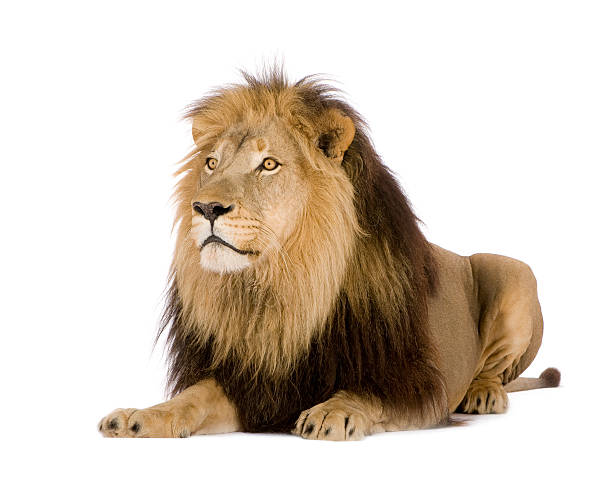lion: (148, 54, 416, 386)
